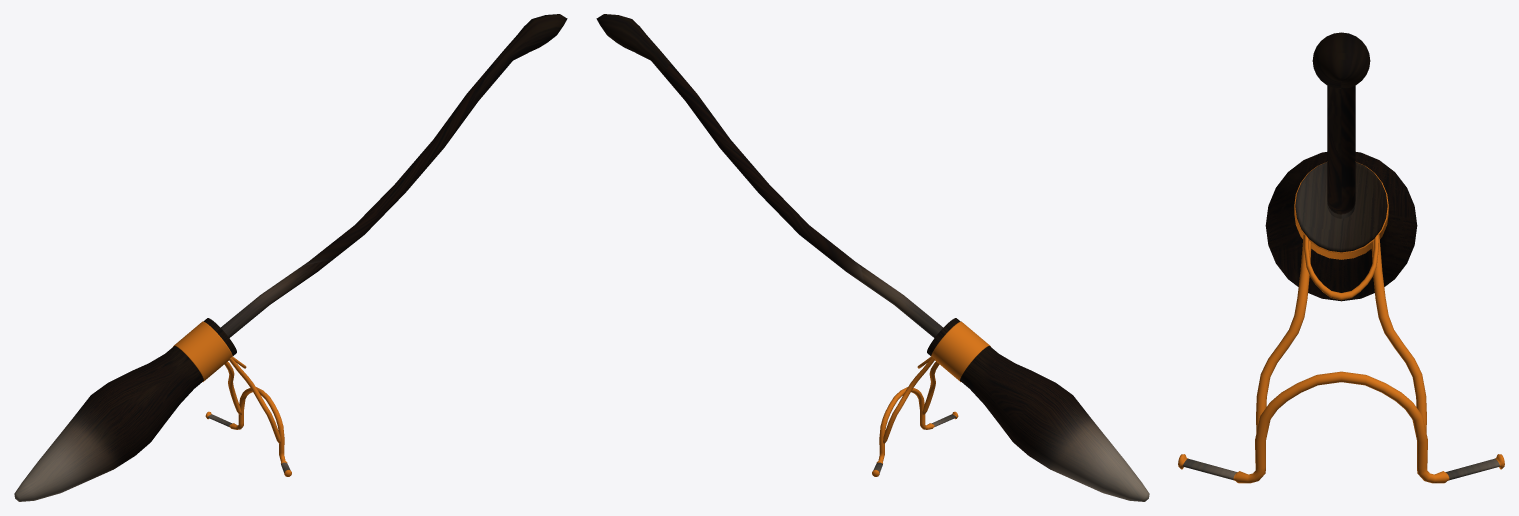
Rendered from Broomstick2.fbx.
3 views of the same model, side by side, from view 1: azimuth 30°, elevation 25°; view 2: azimuth 150°, elevation 25°; view 3: azimuth 270°, elevation 25° (orthographic). The views are drawn at different scales.
Parts seen in each view (by area): view 1: Broom2_LOD0; view 2: Broom2_LOD0; view 3: Broom2_LOD0.
Part boxes in pixels (x1,y1,x2,y2): Broom2_LOD0: (14, 14, 567, 501); Broom2_LOD0: (596, 14, 1149, 501); Broom2_LOD0: (1178, 32, 1504, 483).
Size of what is drawn, in the model's own units: 203 by 127 by 51.94.
